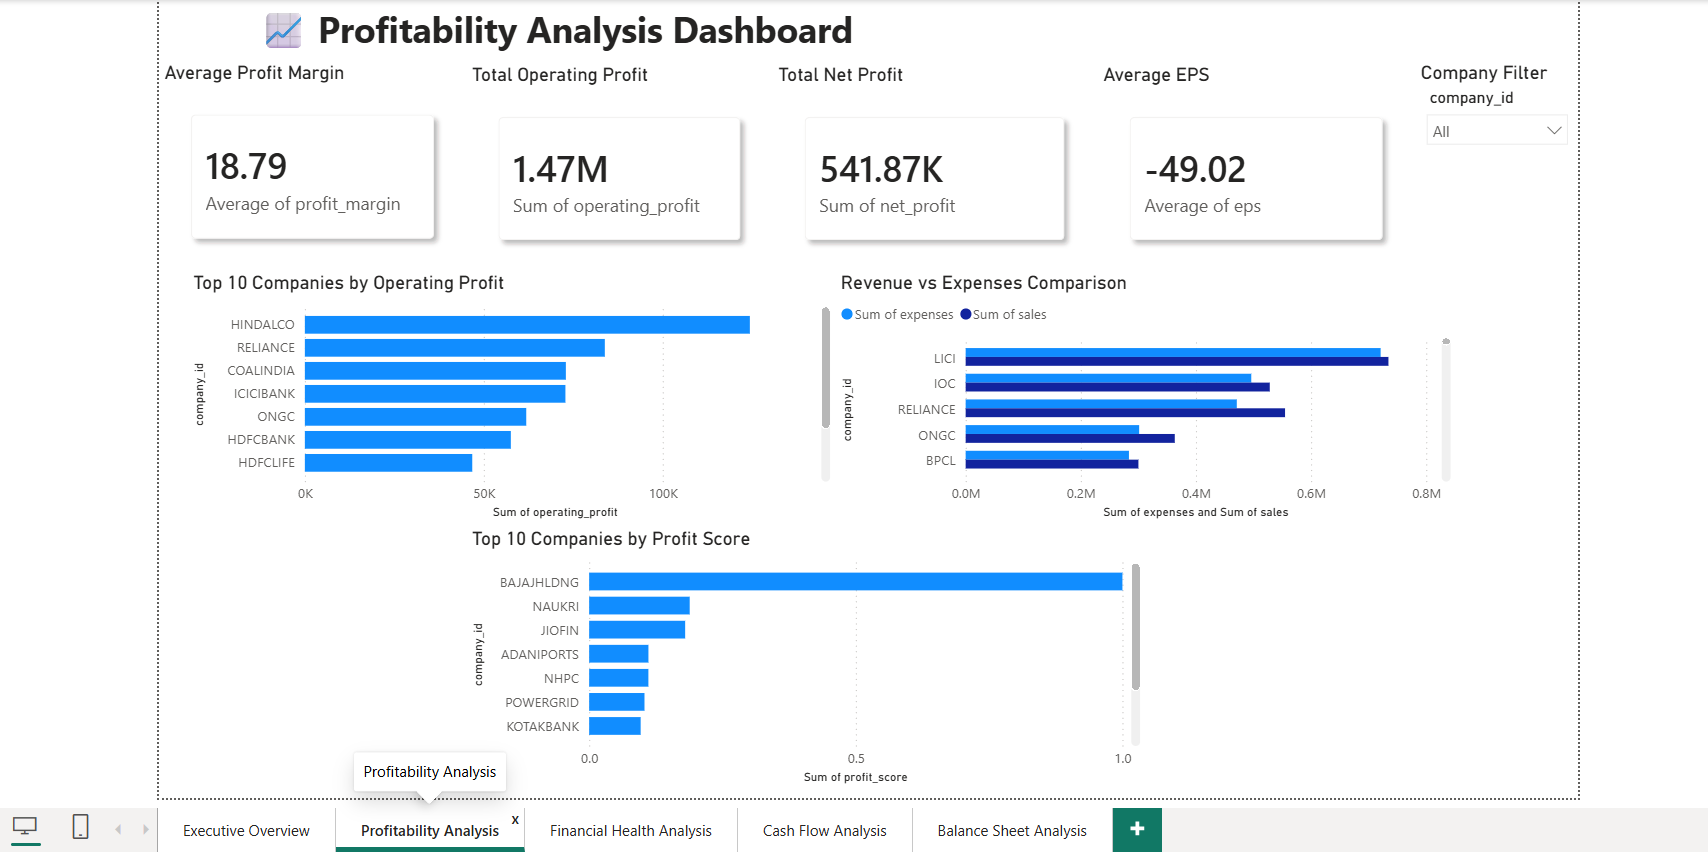

The page's visual inventory and layout, read from the dashboard file:
{"tool":"powerbi","page":{"name":"Profitability Analysis","canvas":[1280,720],"ordinal":1},"visuals":[{"type":"cardVisual","title":"Average Profit Margin","fields":{"Data":["Avg(company_health_scores.profit_margin)"]},"box":[0,55,277.6,189.5],"z":0},{"type":"cardVisual","title":"Total Operating Profit","fields":{"Data":["Sum(company_health_scores.operating_profit)"]},"box":[277.6,57.5,276.4,188.3],"z":1000},{"type":"cardVisual","title":"Total Net Profit","fields":{"Data":["Sum(company_health_scores.net_profit)"]},"box":[553.9,57.5,292.3,188.3],"z":2000},{"type":"clusteredBarChart","title":"Top 10 Companies by Operating Profit","fields":{"Category":["company_health_scores.company_id"],"Y":["Sum(company_health_scores.operating_profit)"]},"box":[25.7,244.6,584.5,228.7],"z":3000},{"type":"clusteredBarChart","title":"Revenue vs Expenses Comparison","fields":{"Category":["company_health_scores.company_id"],"Y":["Sum(company_health_scores.expenses)","Sum(company_health_scores.sales)"]},"box":[610.2,244.6,560.1,228.7],"z":4000},{"type":"cardVisual","title":"Average EPS","fields":{"Data":["Avg(company_health_scores.eps)"]},"box":[846.2,57.5,286.1,188.3],"z":5000},{"type":"clusteredBarChart","title":"Top 10 Companies by Profit Score","fields":{"Category":["company_health_scores.company_id"],"Y":["Sum(company_health_scores.profit_score)"]},"box":[277.6,475.7,612.6,236],"z":6000},{"type":"slicer","title":"Company Filter","fields":{"Values":["company_health_scores.company_id"]},"box":[1132.3,55,148,84.4],"z":7000},{"type":"textbox","box":[85.6,0,633.4,57.5],"z":8000}]}

Visuals, with their boxes on the page's 1280x720 design canvas (x1, y1, x2, y2). These are canvas units, not pixel positions in the 1708x852 screenshot, which may show the page scaled, cropped or inside an application window:
"Average Profit Margin" cardVisual: [x1=0, y1=55, x2=278, y2=244]
"Total Operating Profit" cardVisual: [x1=278, y1=58, x2=554, y2=246]
"Total Net Profit" cardVisual: [x1=554, y1=58, x2=846, y2=246]
"Top 10 Companies by Operating Profit" clusteredBarChart: [x1=26, y1=245, x2=610, y2=473]
"Revenue vs Expenses Comparison" clusteredBarChart: [x1=610, y1=245, x2=1170, y2=473]
"Average EPS" cardVisual: [x1=846, y1=58, x2=1132, y2=246]
"Top 10 Companies by Profit Score" clusteredBarChart: [x1=278, y1=476, x2=890, y2=712]
"Company Filter" slicer: [x1=1132, y1=55, x2=1280, y2=139]
textbox: [x1=86, y1=0, x2=719, y2=58]
